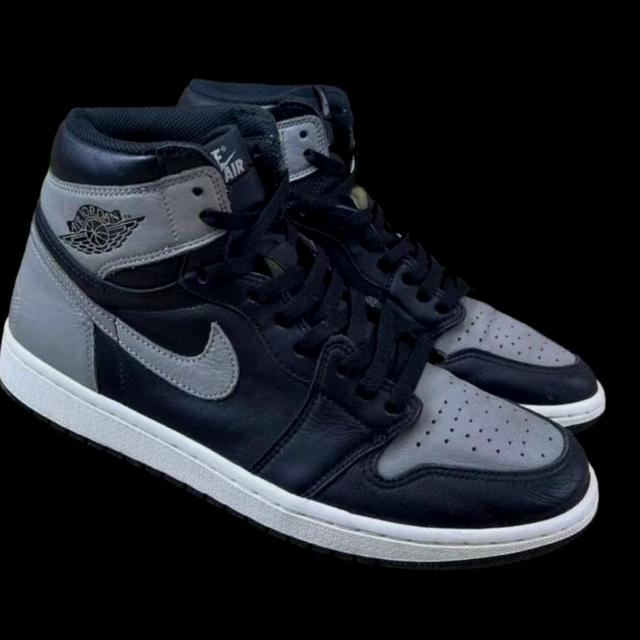nike_original_jordan: (0, 67, 640, 609), (127, 58, 640, 453)
